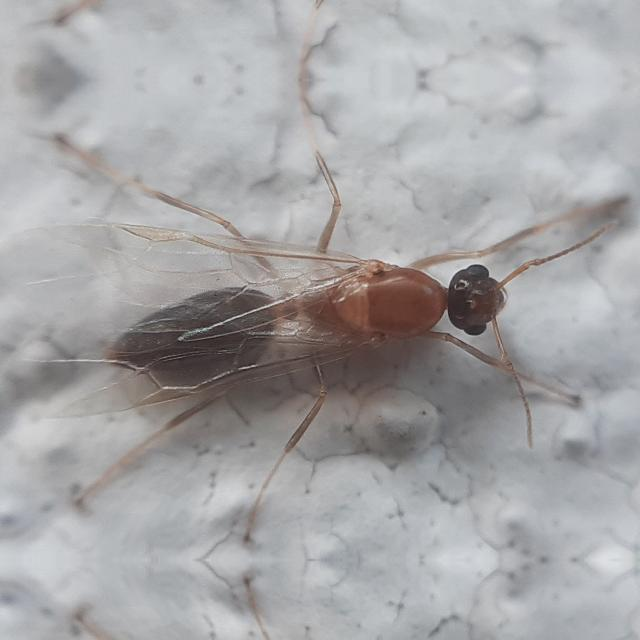Camponotus: (45, 178, 577, 442)
